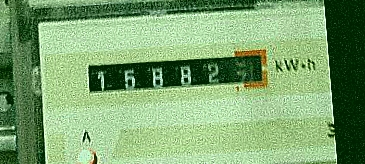1: (93, 67, 108, 90)
2: (203, 60, 221, 85)
5: (121, 65, 137, 91)
7: (234, 65, 247, 82)
8: (177, 62, 192, 87), (149, 64, 163, 88)
screen: (77, 39, 277, 110)
